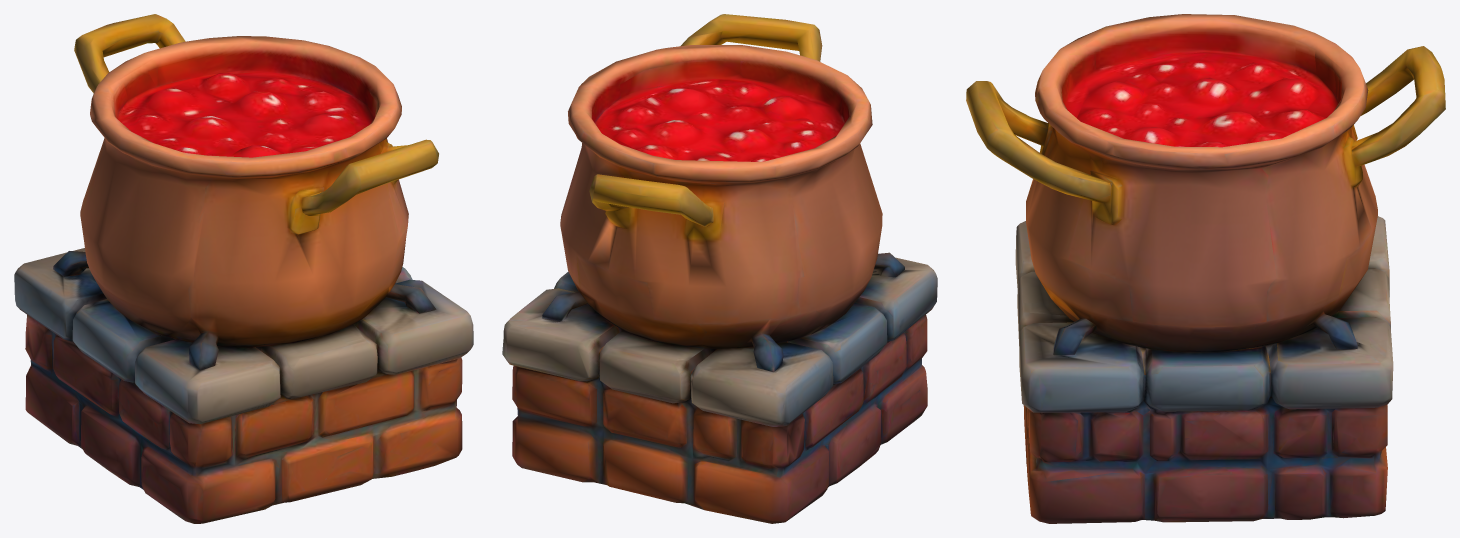
File: guojiangguo-2.glb
3 renders of one model, left to right at view 1: azimuth 30°, elevation 25°; view 2: azimuth 150°, elevation 25°; view 3: azimuth 270°, elevation 25°, orthographic. The views are drawn at different scales.
Visible parts, largest first — view 1: node_0; view 2: node_0; view 3: node_0.
Boxes of the visible parts, box(x1,y1,x2,y2) form: node_0: box(14, 14, 473, 523); node_0: box(502, 14, 937, 523); node_0: box(966, 14, 1445, 523).
Bounding box in the file's own units: 0.7128 × 0.7806 × 0.9117.
1 material, 1 textured.
